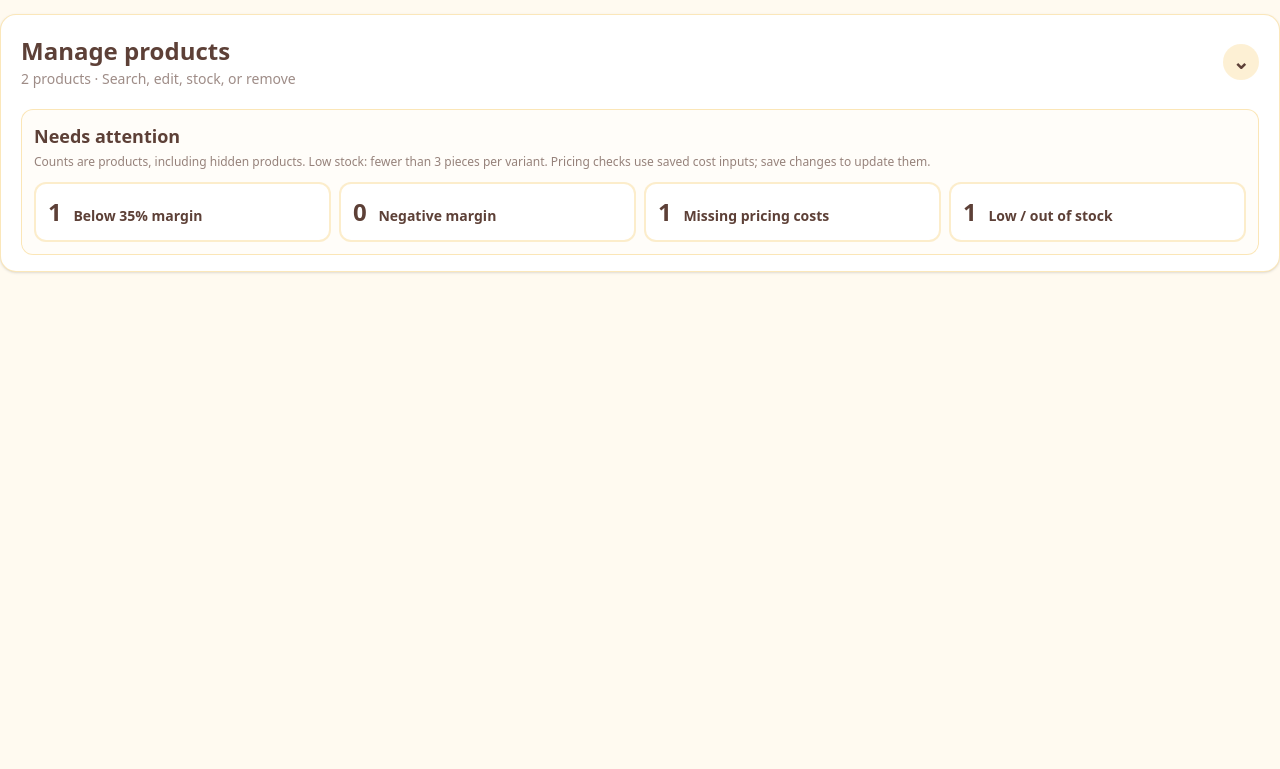
Test case: Product detail admin integration › filters attention groups from the collapsed manager and combines them with search
Click the button "1 Below 35% margin": [182, 212] box 34,182 -> 331,242
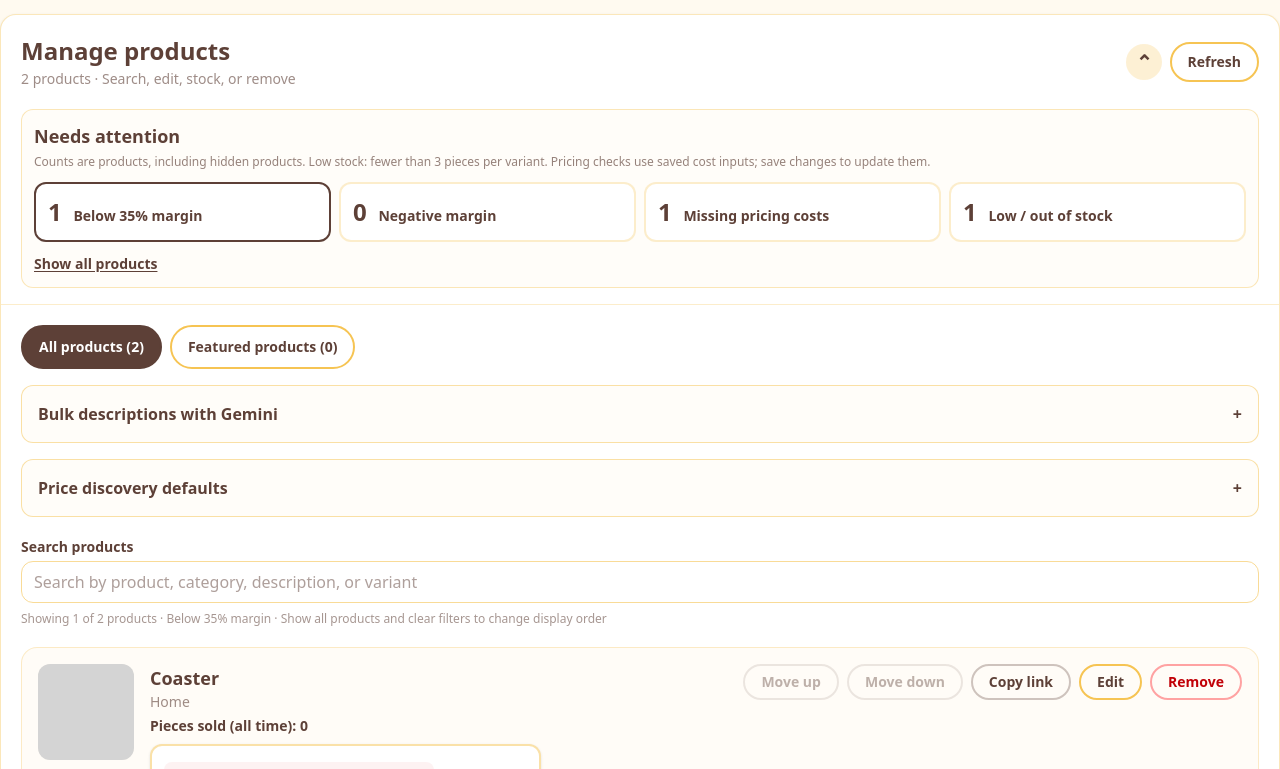
Expected: the heading "Bunny" is not shown
Result: the heading "Coaster" is shown at 150,666 -> 219,690
Result: the button with aria-label "Move Coaster up" is disabled at 743,664 -> 839,700
In the search field labelled "Search products": [640, 582] box 21,561 -> 1259,603, type "Bunny"
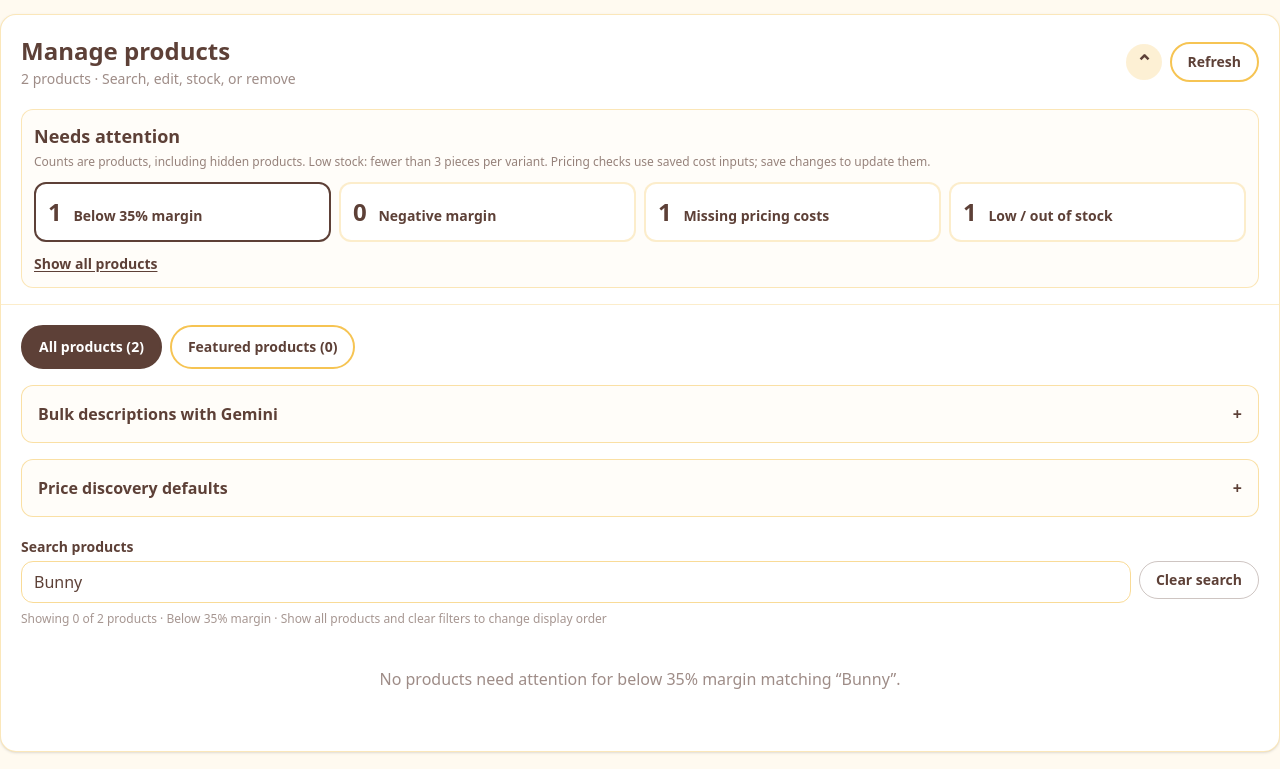
Result: the text "No products need attention" is shown at 380,668 -> 900,690
Click the button "1 Missing pricing costs": [792, 212] box 644,182 -> 941,242
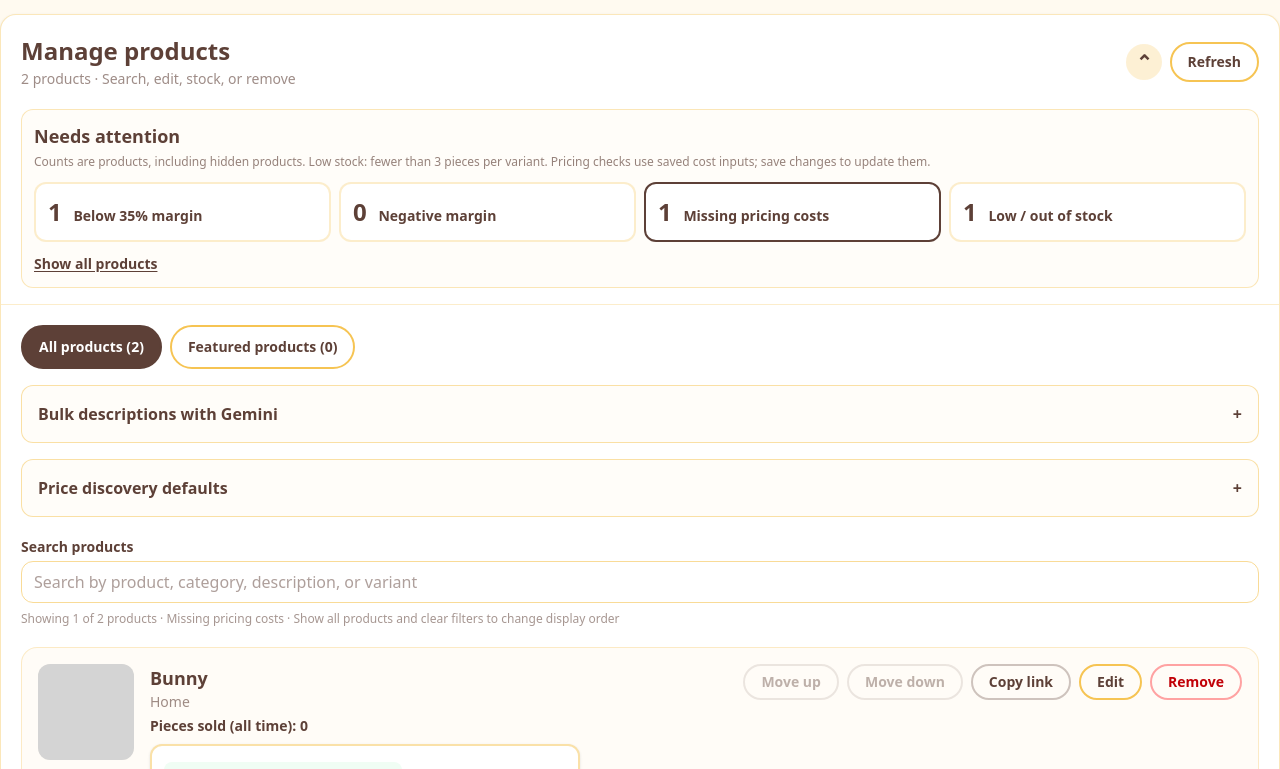
Result: the heading "Bunny" is shown at 150,666 -> 208,690
Result: the search field labelled "Search products" is empty at 21,561 -> 1259,603
Click the button "1 Low / out of stock": [1098, 212] box 949,182 -> 1246,242
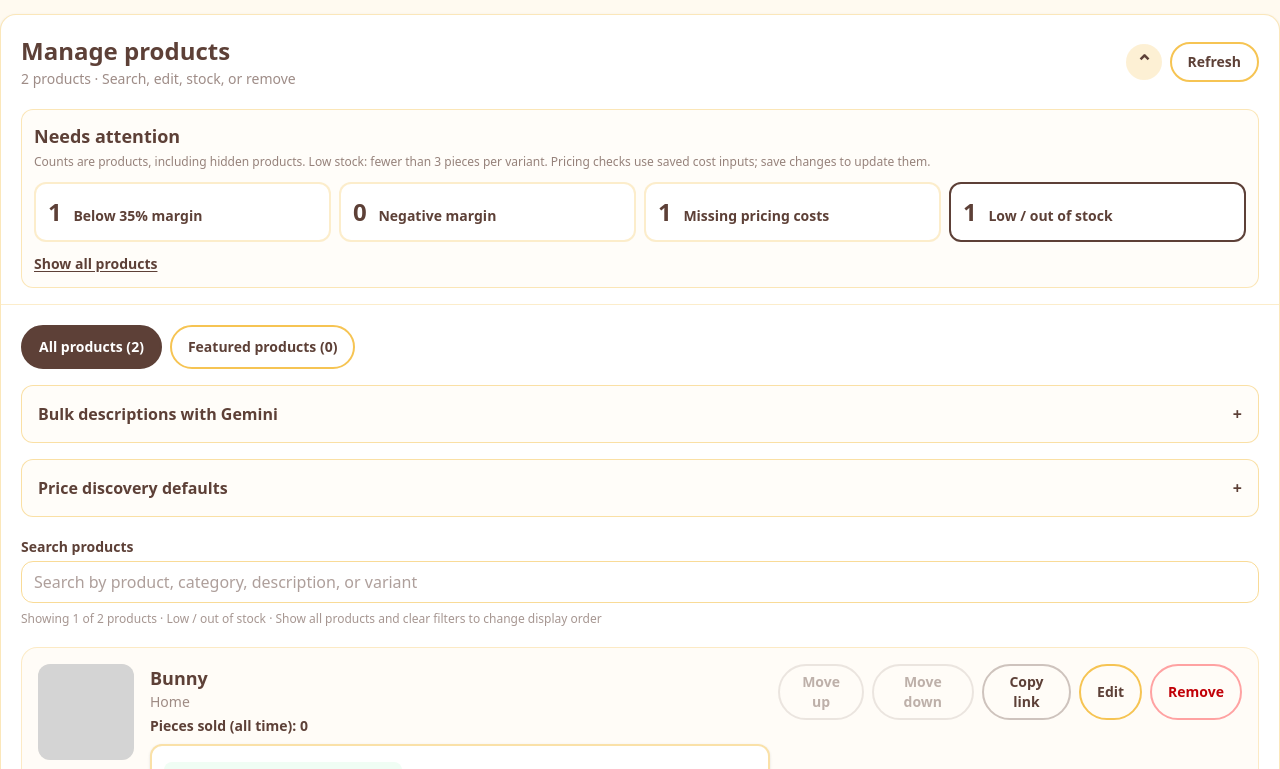
Click the button "Show all products": [96, 264] box 34,254 -> 158,274
(page scrolled)
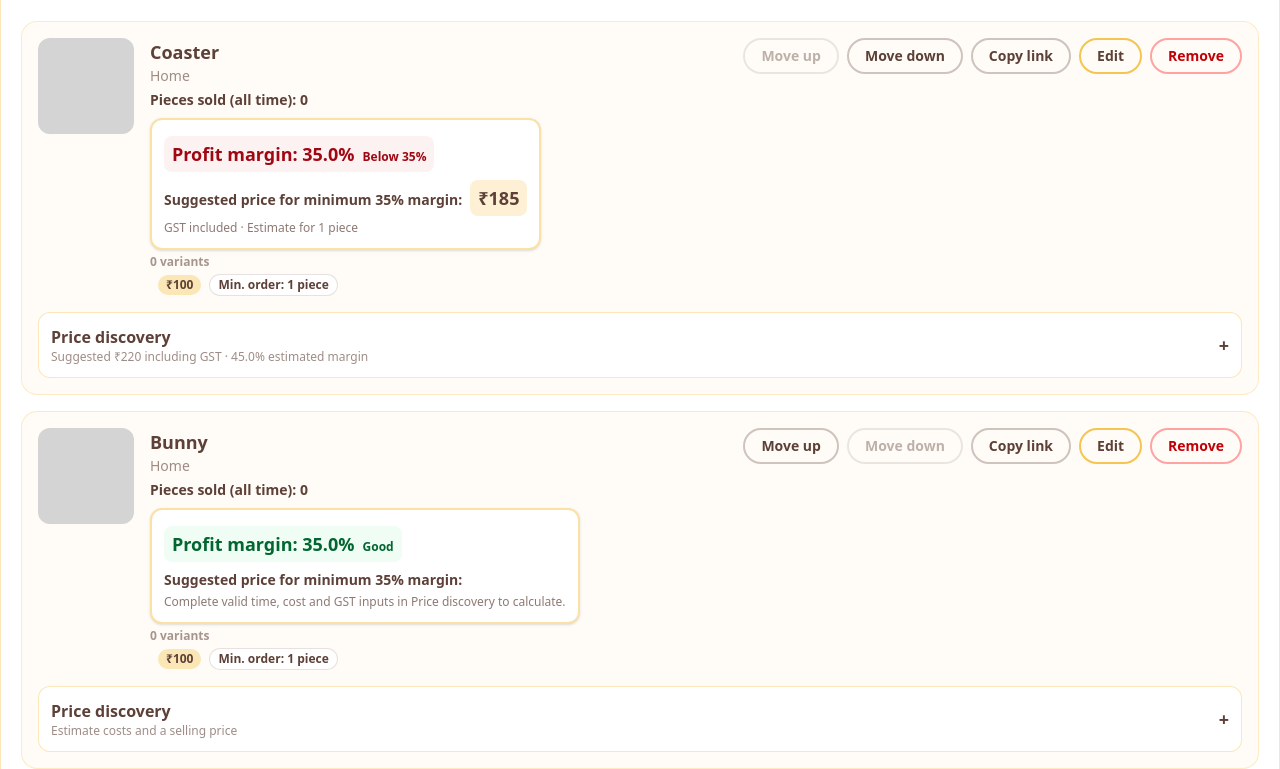
Result: the heading "Bunny" is shown at 150,430 -> 208,454
Result: the heading "Coaster" is shown at 150,40 -> 219,64
